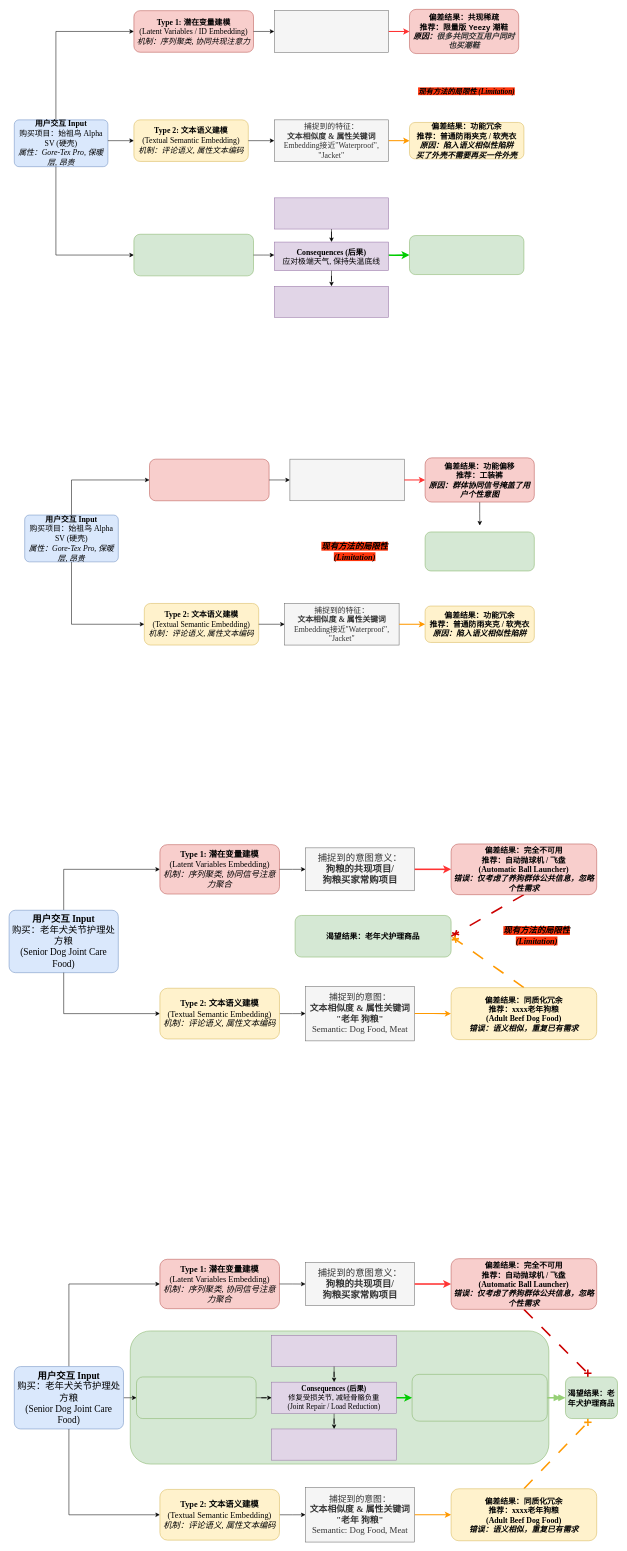
Image size: 627x1551. Some labels were removed from this diagram. The box of each missing label's shape, as (x1, y1, x2, y2) in pixels:
Attributes (属性) Gore-Tex Pro, 防风, 坚固耐磨: (274, 197, 389, 229)
Attributes (属性) 含葡萄糖胺/软骨素, 低热量 (Glucosamine / Low-Calorie): (271, 1335, 396, 1367)
MEC 理论建模 (Means-End Chain) 机制：属性-后果-价值 逻辑推理: (136, 1376, 256, 1419)
Ours: MEC 理论建模 (Means-End Chain) 机制：属性-后果-价值 逻辑推理: (133, 234, 254, 276)
Type 1: 潜在变量建模 (Latent Variables Embedding) 机制：序列聚类, 协同共现注意力: (149, 459, 269, 501)
Values (价值) 减轻爱宠痛苦, 舒适陪伴 (Relieve Pain / Comfort): (271, 1428, 396, 1460)
Values (价值) 追求极限, 专业主义, 安全感 (Professionalism / Survival): (274, 286, 389, 317)
捕捉到的特征： 共现群体（数据稀疏）: (274, 10, 389, 52)
捕捉到的特征： 协同共现 / 序列特征 用户将什么与该商品共同交互: (289, 459, 404, 501)
渴望结果：逻辑互补 推荐：中间层抓绒衣 / 登山冰镐 原因：基于“高海拔生存”价值 构建完整的装备系统: (425, 531, 534, 571)
理想结果：价值意图驱动 推荐： 骨科记忆棉狗床 / 宠物楼梯 原因： 基于“关爱与减痛”价值 解决“行动不便”的深层痛点: (412, 1374, 547, 1421)
理想结果：逻辑互补 推荐：中间层抓绒衣 / 登山冰镐 原因：基于“高海拔生存”价值 构建完整的装备系统: (409, 235, 524, 275)
